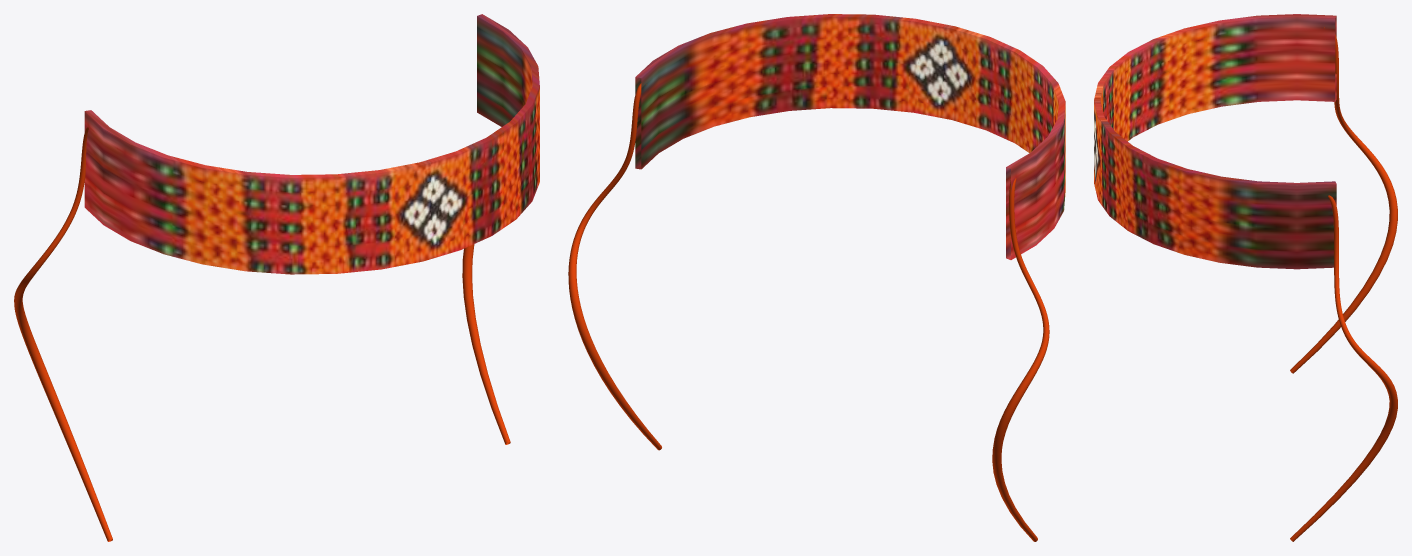
The model's file is sapi.glb.
The picture shows the model from 3 angles, left to right: view 1: azimuth 30°, elevation 25°; view 2: azimuth 150°, elevation 25°; view 3: azimuth 270°, elevation 25°; orthographic projection. The views are drawn at different scales.
Parts seen in each view (by area): view 1: Circle, NurbsPath; view 2: Circle, NurbsPath; view 3: Circle, NurbsPath.
Part boxes in pixels (x1=…): Circle: x1=84, y1=14, x2=539, y2=274; NurbsPath: x1=14, y1=127, x2=510, y2=541; Circle: x1=635, y1=14, x2=1065, y2=259; NurbsPath: x1=568, y1=83, x2=1049, y2=541; Circle: x1=1094, y1=14, x2=1336, y2=269; NurbsPath: x1=1290, y1=27, x2=1397, y2=541.
Bounding box in the file's own units: 2.19 × 1.73 × 1.33.
2 materials, 1 textured.
